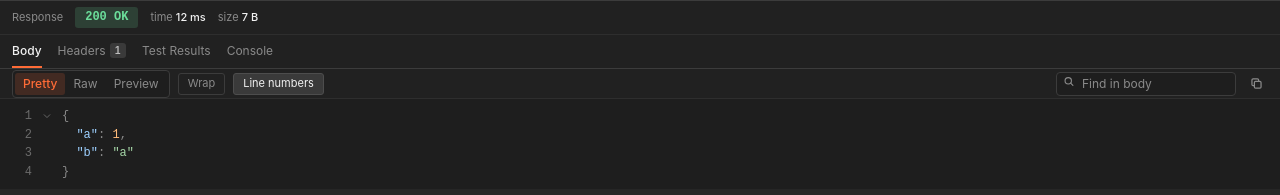
Scenario: ResponsePane › counts matches when searching in the body
In the field labelled "Find in body": (1146,84) [1056, 72, 1236, 96], type "a"
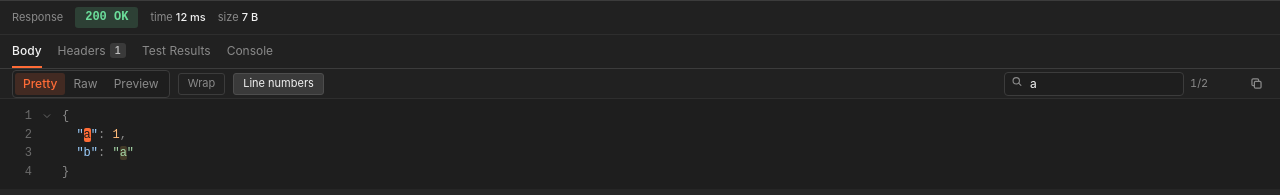
Expected: the text "1/2" is shown, [1190, 76, 1208, 90]
